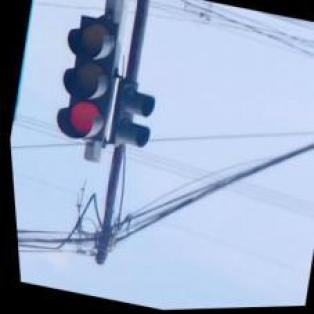Semoforo Rojo: (43, 11, 130, 145)
